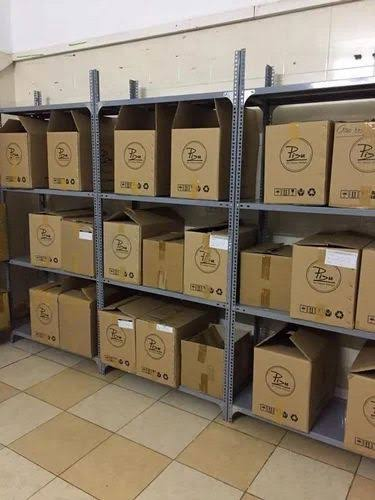box: (254, 123, 325, 204), (248, 332, 308, 426), (163, 122, 229, 200), (297, 237, 344, 321), (330, 117, 375, 204), (103, 124, 156, 197), (248, 244, 293, 314), (54, 286, 94, 361), (0, 126, 41, 194), (176, 340, 224, 398), (188, 229, 228, 298), (95, 305, 132, 370), (348, 368, 375, 446), (107, 215, 137, 282), (137, 315, 173, 370), (43, 130, 78, 186), (24, 213, 60, 265), (57, 218, 95, 267), (20, 285, 54, 337), (142, 236, 180, 282), (359, 251, 375, 339)
